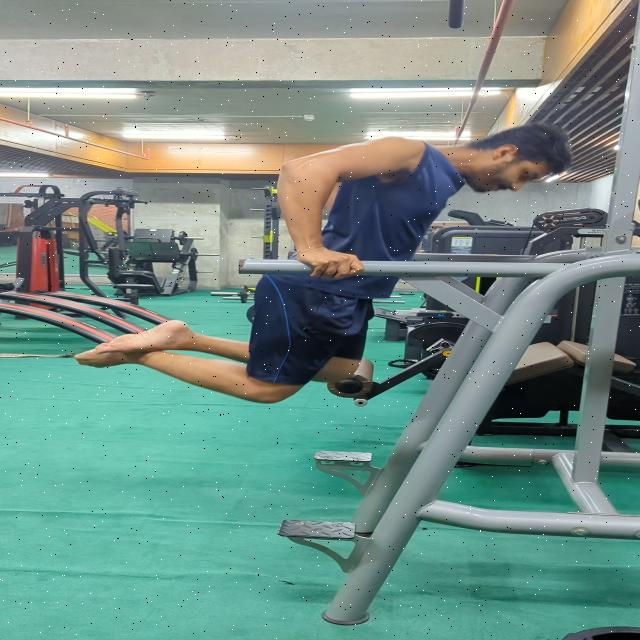Normal_Dips: (65, 117, 578, 403)
